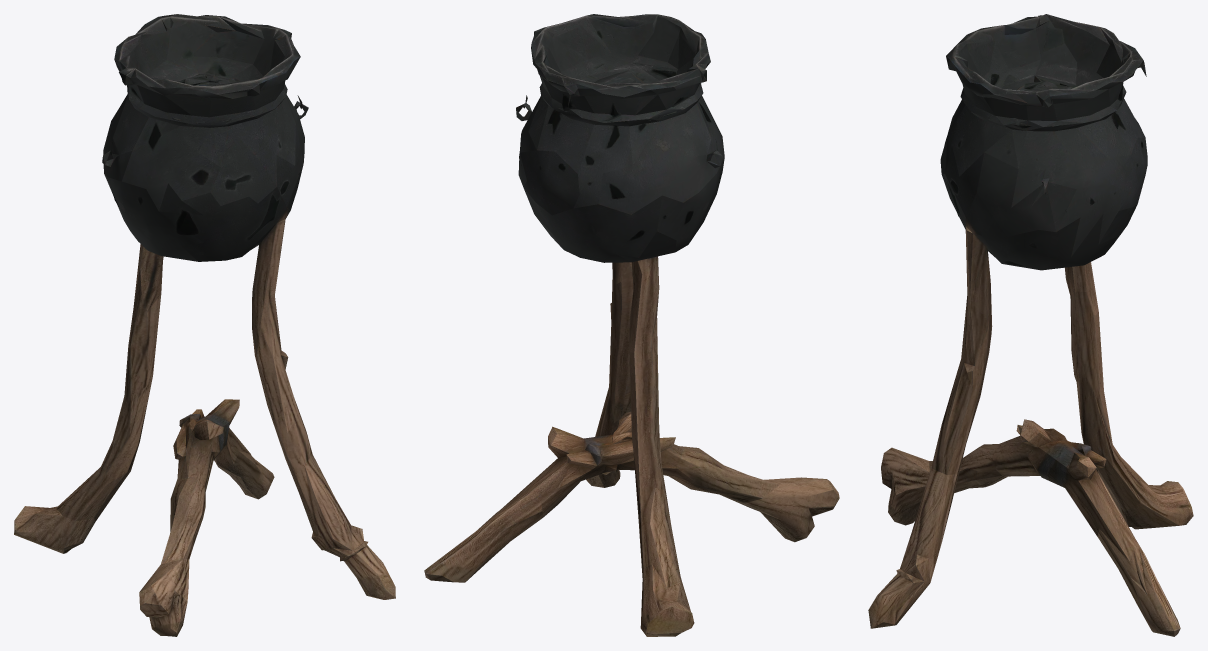
Rendered from tripod_cauldron.glb.
The picture shows the model from 3 angles, left to right: view 1: azimuth 30°, elevation 25°; view 2: azimuth 150°, elevation 25°; view 3: azimuth 270°, elevation 25°; orthographic projection. The views are drawn at different scales.
Size of the model in its own units: 1.05 by 1.9 by 1.06.
Materials: 1 (1 with a texture image).
